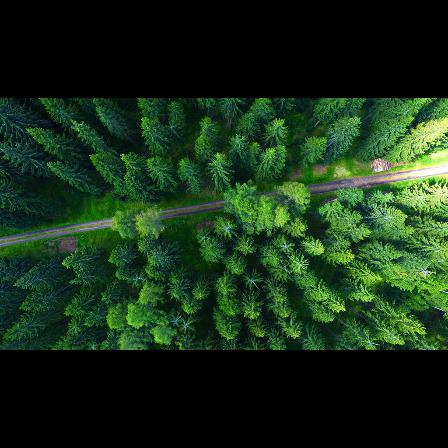Sick: (241, 269, 264, 290), (219, 216, 238, 241), (159, 119, 183, 138), (127, 269, 150, 287), (277, 239, 297, 253), (181, 315, 194, 335), (169, 312, 184, 328), (231, 134, 248, 147), (197, 230, 210, 245)
